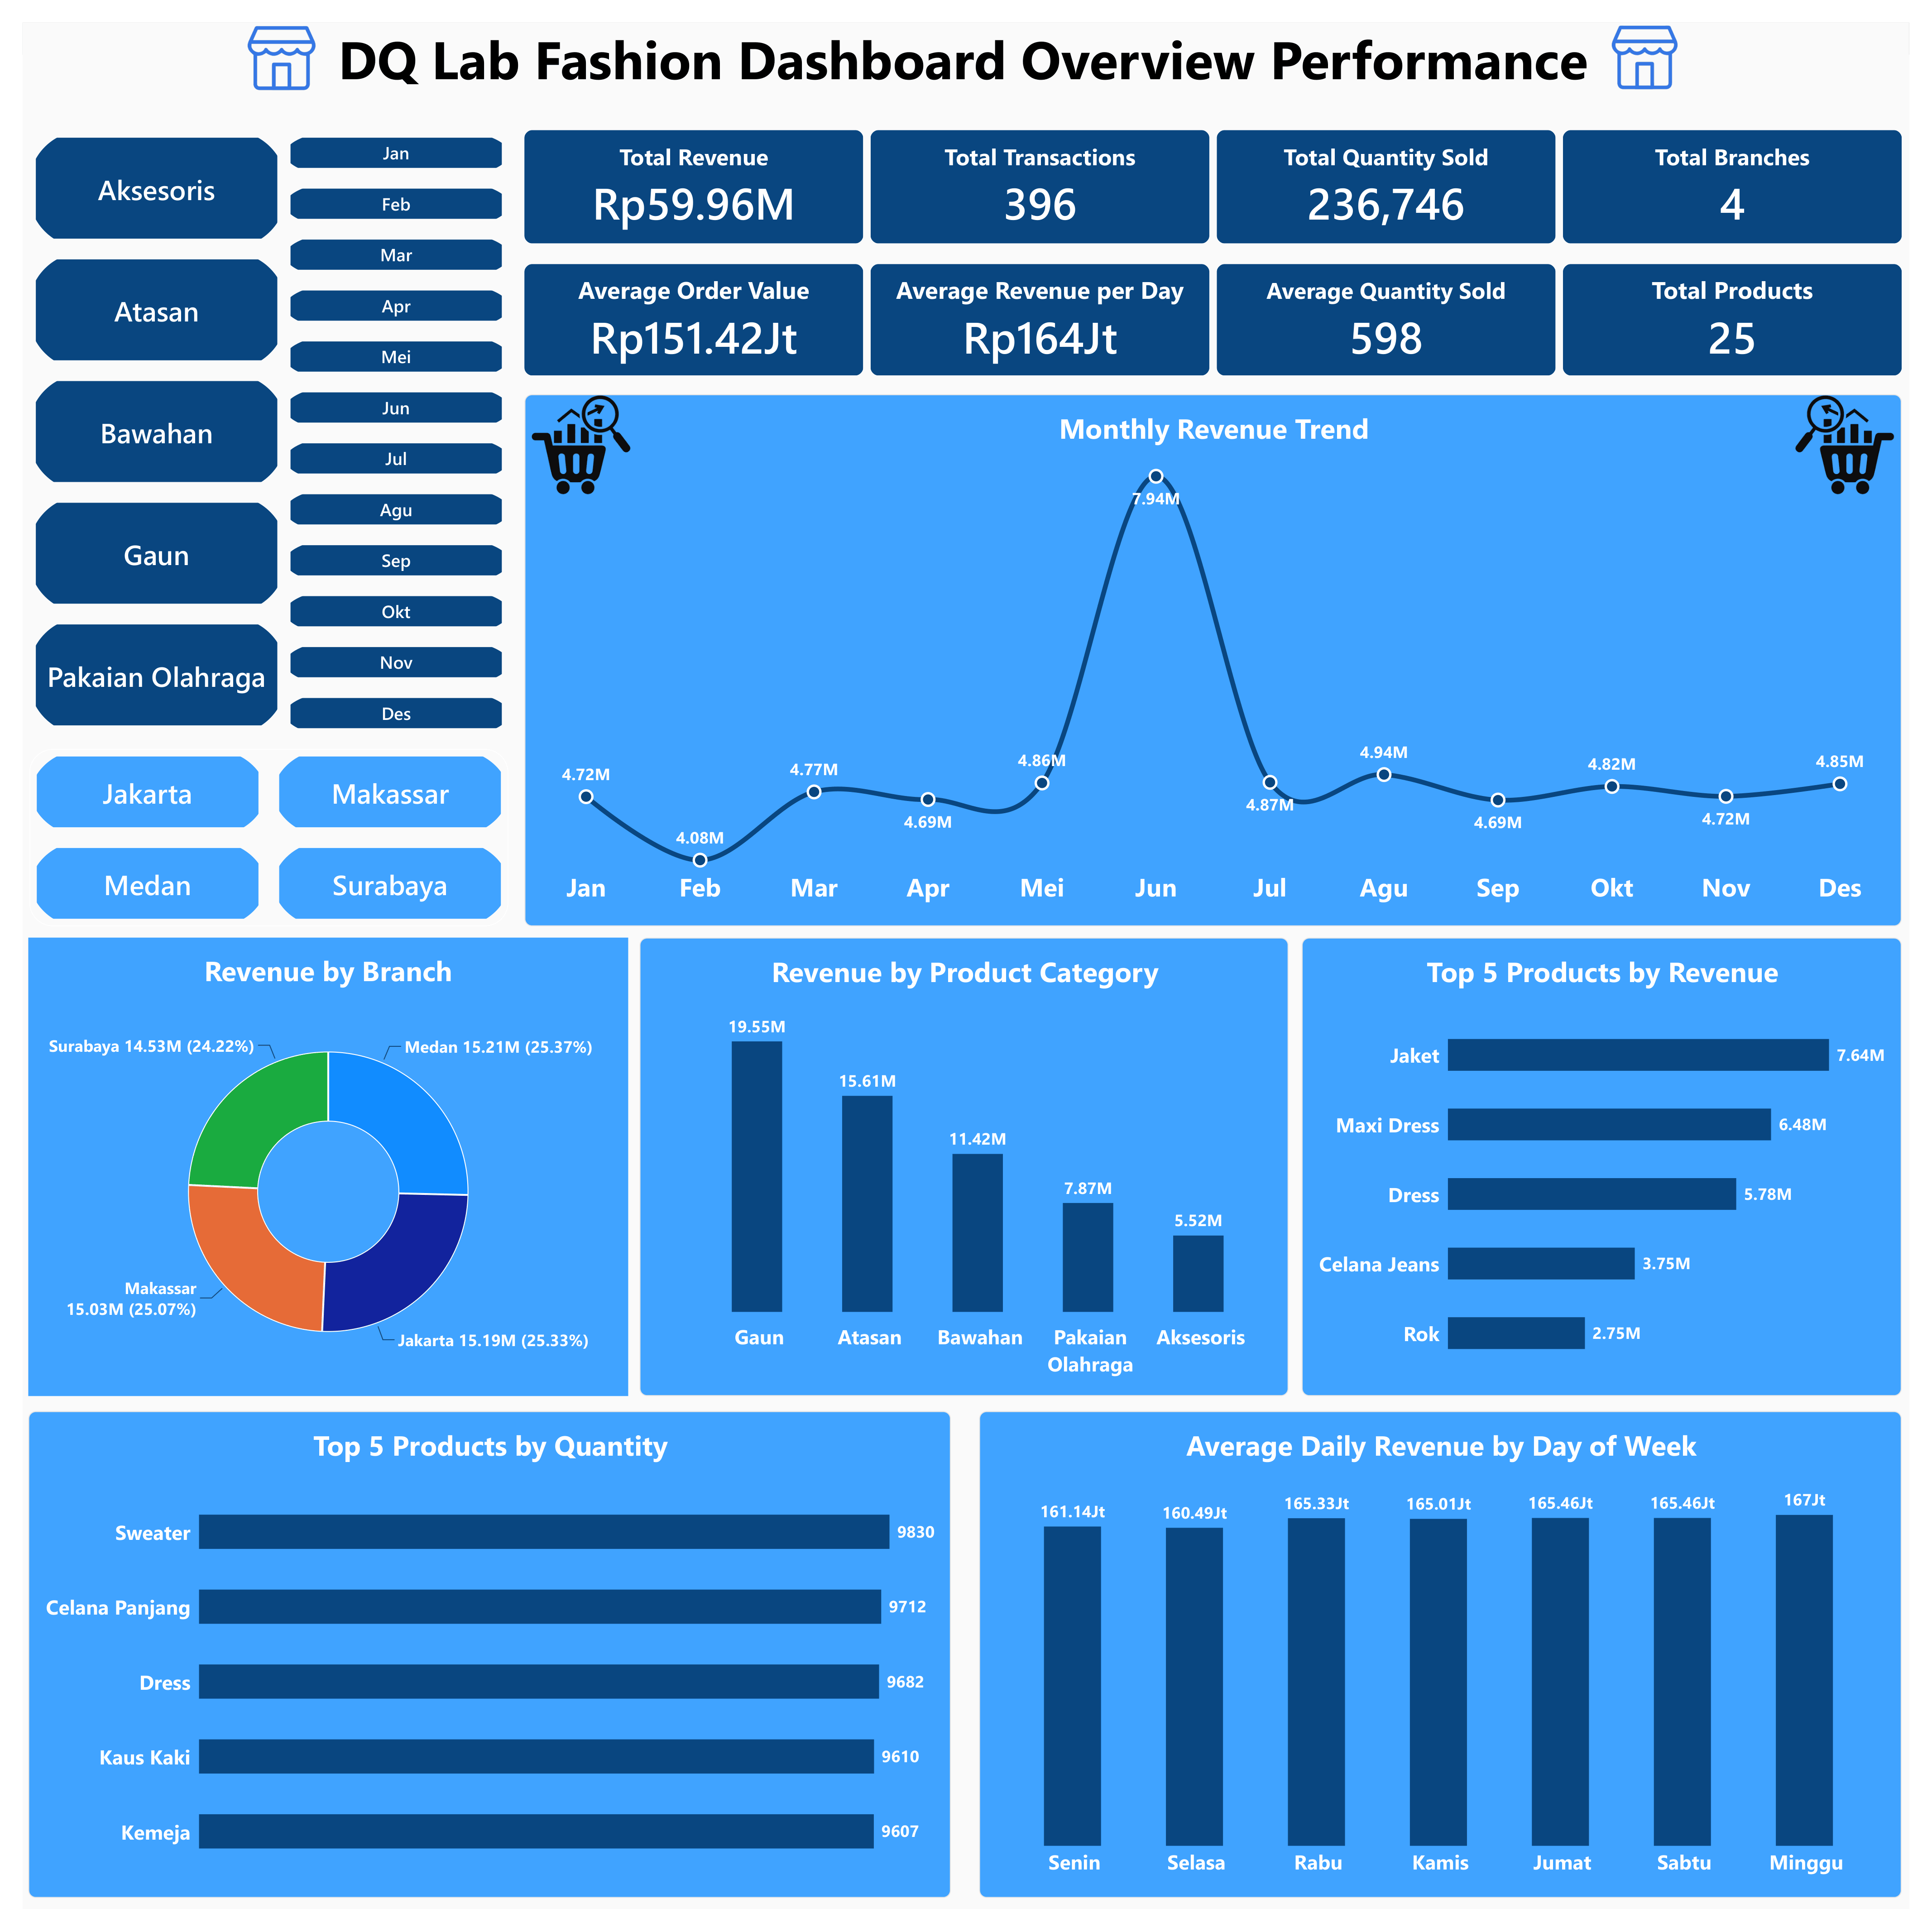

The dashboard page shown, as its layout file describes it:
{"tool":"powerbi","page":{"name":"Dashboard Overview","canvas":[2000,2000],"ordinal":0},"visuals":[{"type":"textbox","box":[320.8,0,1352.5,79.4],"z":0},{"type":"lineChart","title":"Monthly Revenue Trend","fields":{"Category":["Calendar.Month"],"Y":["Transaksi Penjualan.Total Revenue"]},"box":[532.4,393.6,1460,564],"z":1000},{"type":"donutChart","title":"Revenue by Branch","fields":{"Category":["Master Cabang.Lokasi"],"Y":["Transaksi Penjualan.Total Revenue"]},"box":[6,970,636,486],"z":2000},{"type":"columnChart","title":"Revenue by Product Category","fields":{"Category":["Master Produk.Kategori"],"Y":["Transaksi Penjualan.Total Revenue"]},"box":[654,970,688,486],"z":3000},{"type":"clusteredBarChart","title":"Top 5 Products by Revenue","fields":{"Category":["Master Produk.Nama Produk"],"Y":["Transaksi Penjualan.Total Revenue"]},"box":[1356,970,636,486],"z":4000},{"type":"barChart","title":"Top 5 Products by Quantity","fields":{"Category":["Master Produk.Nama Produk"],"Y":["Transaksi Penjualan.Total Quantity"]},"box":[6,1472,978,516],"z":5000},{"type":"cardVisual","fields":{"Data":["Transaksi Penjualan.Average Order Value","Transaksi Penjualan.Average Revenue per Day","Transaksi Penjualan.Average Quantity Sold","Transaksi Penjualan.Total Products"]},"box":[532.4,255.6,1460,118],"z":6000},{"type":"cardVisual","fields":{"Data":["Transaksi Penjualan.Total Revenue","Transaksi Penjualan.Total Transactions","Transaksi Penjualan.Total Quantity Sold","Transaksi Penjualan.Total Branches"]},"box":[532,114,1460,120],"z":7000},{"type":"advancedSlicerVisual","fields":{"Values":["Calendar.Month"]},"box":[276.7,115,238.3,640],"z":8000},{"type":"advancedSlicerVisual","fields":{"Values":["Master Cabang.Lokasi"]},"box":[6.7,770,508.3,188.3],"z":9000},{"type":"columnChart","title":"Average Daily Revenue by Day of Week","fields":{"Category":["Calendar.Day Name"],"Y":["Transaksi Penjualan.Average Revenue per Day"]},"box":[1014,1472,978,516],"z":10000},{"type":"image","box":[228.2,0,92.9,80],"z":11000},{"type":"image","box":[1673.3,0,92.6,79.4],"z":12000},{"type":"advancedSlicerVisual","fields":{"Values":["Kategori Produk.Nama Kategori"]},"box":[6.7,115,270,640],"z":13000},{"type":"image","box":[532,394,122,108],"z":14000},{"type":"image","box":[1870,394,122,108],"z":15000}]}

Visuals, with their boxes in screenshot pixels (x1, y1, x2, y2), scaled from the page's 2000x2000 canvas onto the 1932x1932 screenshot:
textbox: {"x1": 310, "y1": 0, "x2": 1616, "y2": 77}
"Monthly Revenue Trend" lineChart: {"x1": 514, "y1": 380, "x2": 1925, "y2": 925}
"Revenue by Branch" donutChart: {"x1": 6, "y1": 937, "x2": 620, "y2": 1406}
"Revenue by Product Category" columnChart: {"x1": 632, "y1": 937, "x2": 1296, "y2": 1406}
"Top 5 Products by Revenue" clusteredBarChart: {"x1": 1310, "y1": 937, "x2": 1924, "y2": 1406}
"Top 5 Products by Quantity" barChart: {"x1": 6, "y1": 1422, "x2": 950, "y2": 1920}
cardVisual - Transaksi Penjualan.Average Order Value x Transaksi Penjualan.Average Revenue per Day: {"x1": 514, "y1": 247, "x2": 1925, "y2": 361}
cardVisual - Transaksi Penjualan.Total Revenue x Transaksi Penjualan.Total Transactions: {"x1": 514, "y1": 110, "x2": 1924, "y2": 226}
advancedSlicerVisual - Calendar.Month: {"x1": 267, "y1": 111, "x2": 498, "y2": 729}
advancedSlicerVisual - Master Cabang.Lokasi: {"x1": 6, "y1": 744, "x2": 498, "y2": 926}
"Average Daily Revenue by Day of Week" columnChart: {"x1": 979, "y1": 1422, "x2": 1924, "y2": 1920}
image: {"x1": 221, "y1": 0, "x2": 310, "y2": 77}
image: {"x1": 1616, "y1": 0, "x2": 1706, "y2": 77}
advancedSlicerVisual - Kategori Produk.Nama Kategori: {"x1": 6, "y1": 111, "x2": 267, "y2": 729}
image: {"x1": 514, "y1": 381, "x2": 632, "y2": 485}
image: {"x1": 1807, "y1": 381, "x2": 1924, "y2": 485}
